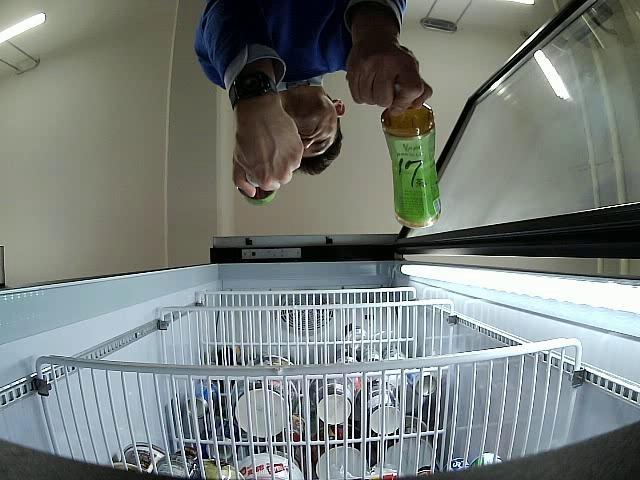19_17cha: (380, 84, 445, 230), (240, 171, 276, 206)
